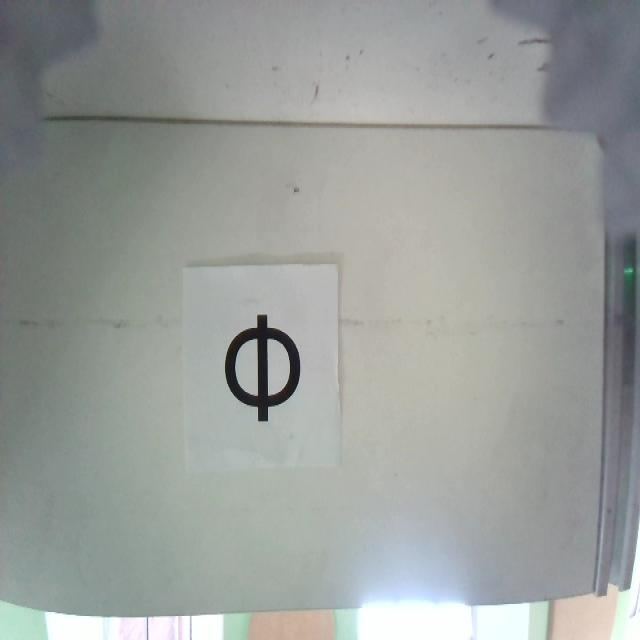F: (224, 315, 301, 420)
